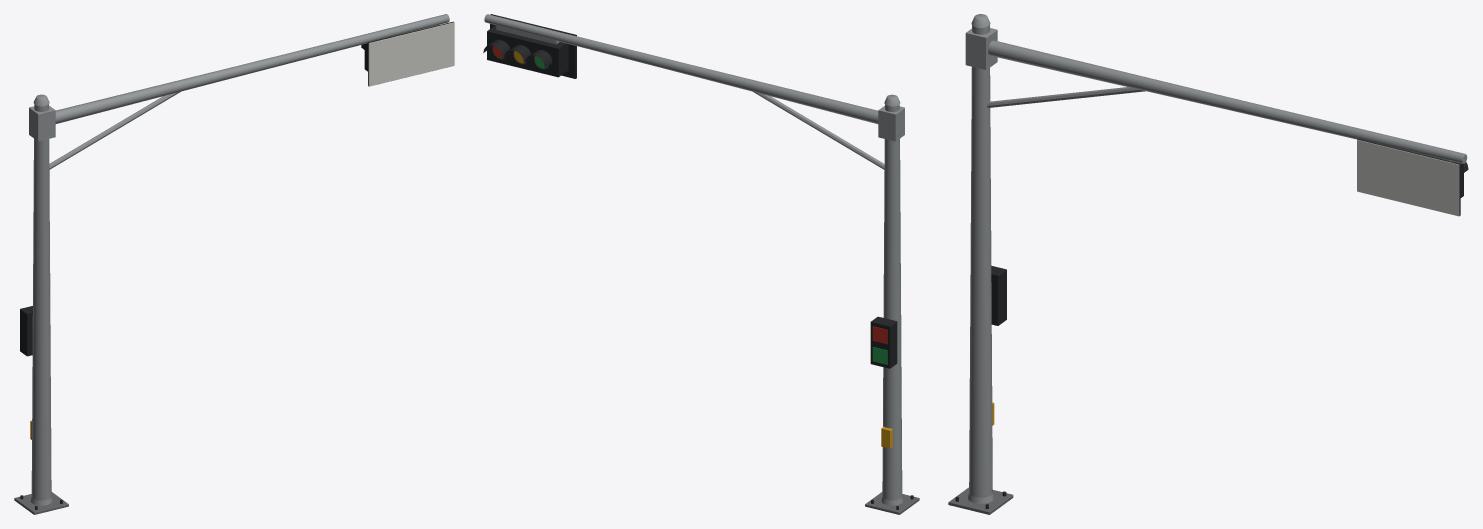
File: prop_trafficLight3.glb
3 views of the same model, side by side, from view 1: azimuth 30°, elevation 25°; view 2: azimuth 150°, elevation 25°; view 3: azimuth 330°, elevation 25° (orthographic). The views are drawn at different scales.
Visible parts, largest first — view 1: prop_trafficLight3_LOD0; view 2: prop_trafficLight3_LOD0; view 3: prop_trafficLight3_LOD0.
Boxes of the visible parts, x1,y1,x2,y2 form: prop_trafficLight3_LOD0: [14, 14, 454, 514]; prop_trafficLight3_LOD0: [483, 14, 919, 514]; prop_trafficLight3_LOD0: [948, 14, 1468, 514].
Size of what is drawn, in the model's own units: 7.32 by 6.7 by 0.7219.
